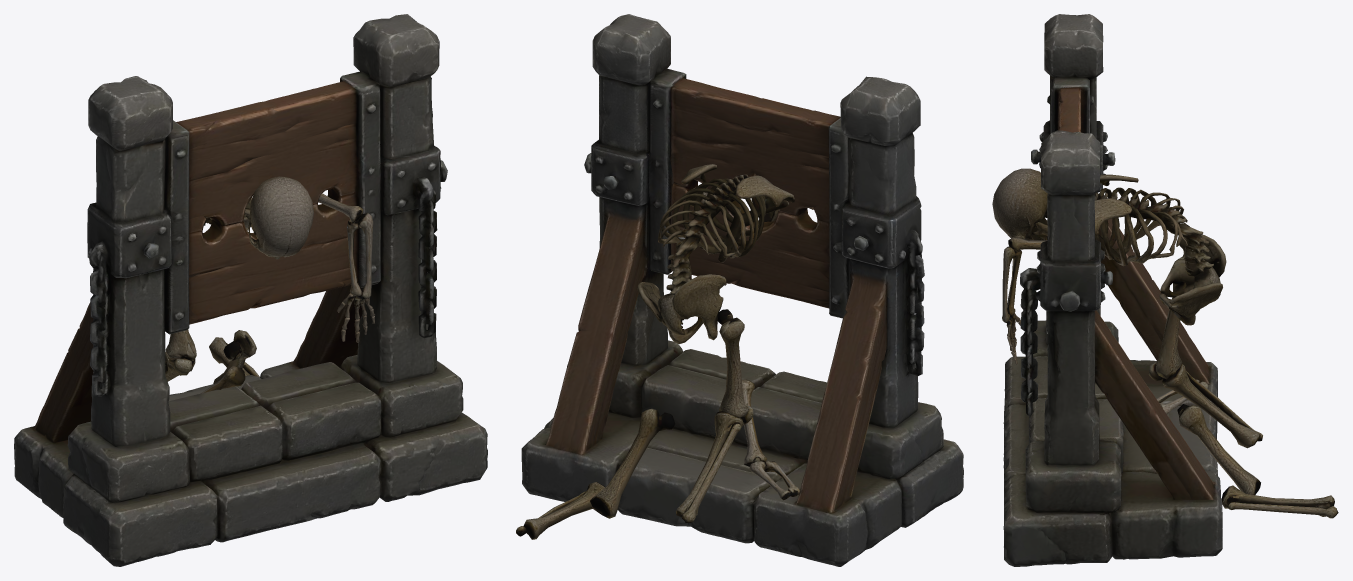
Rendered from Stockade_Skeleton.fbx.
The picture shows the model from 3 angles, left to right: view 1: azimuth 30°, elevation 25°; view 2: azimuth 150°, elevation 25°; view 3: azimuth 270°, elevation 25°; orthographic projection. The views are drawn at different scales.
Visible parts, largest first — view 1: Stockade_Skeleton; view 2: Stockade_Skeleton; view 3: Stockade_Skeleton.
Part boxes in pixels (<box>): Stockade_Skeleton: <box>14,14,487,566</box>; Stockade_Skeleton: <box>516,14,963,566</box>; Stockade_Skeleton: <box>992,14,1338,566</box>.
Bounding box in the file's own units: 153 × 171 × 133.
